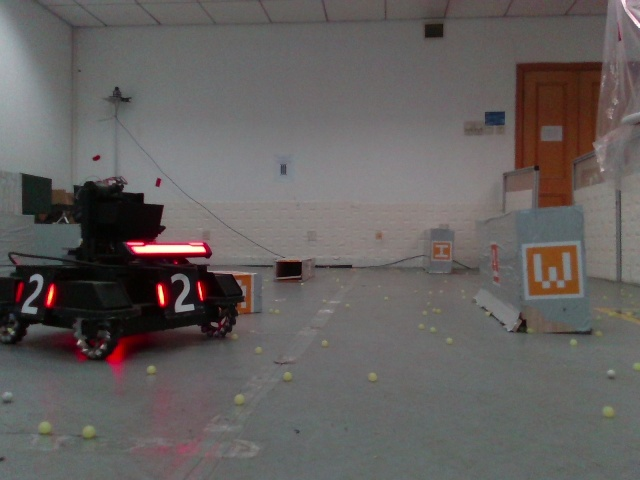Robot_Red: (1, 174, 247, 362)
armor_Red: (156, 273, 204, 313), (16, 273, 54, 314)
